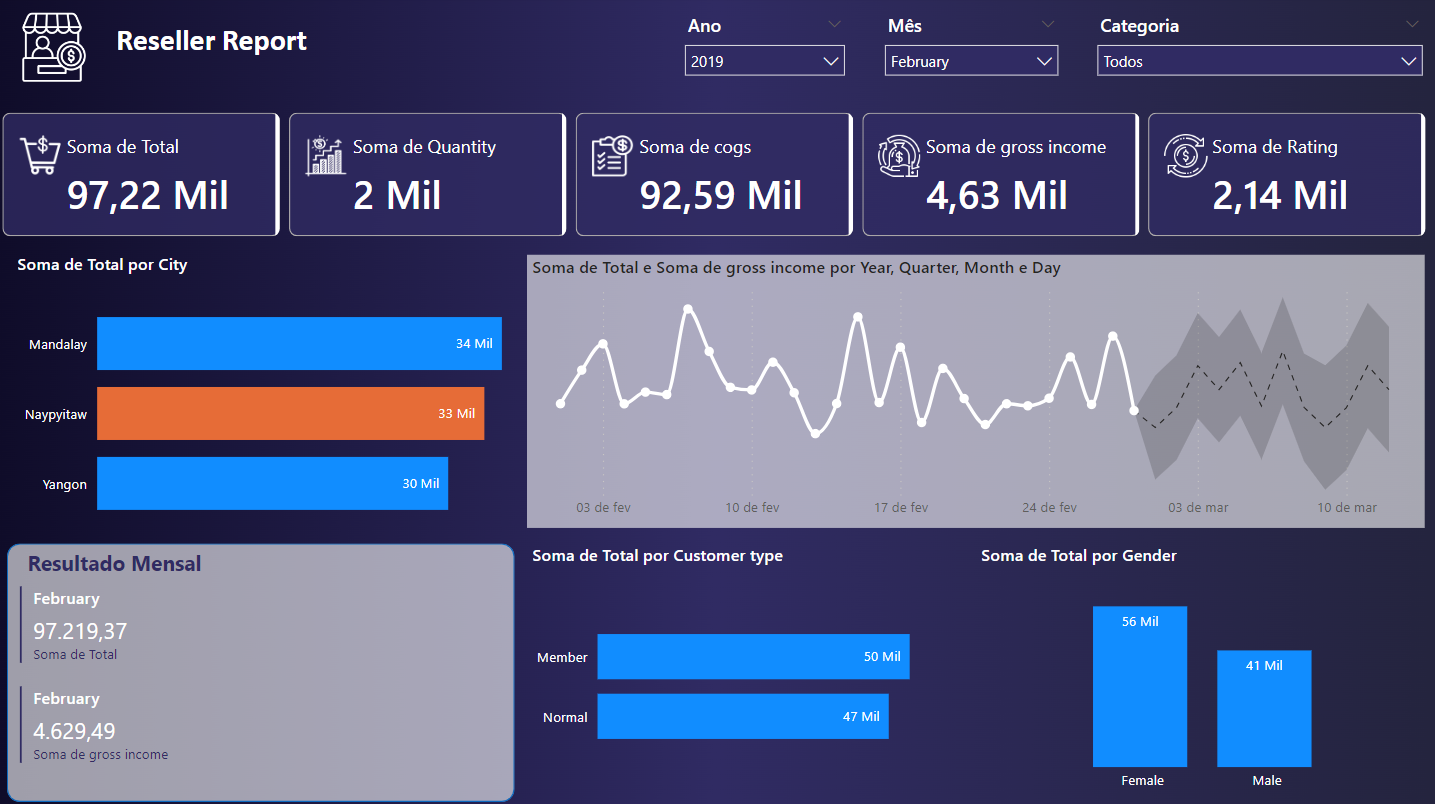

What the dashboard file says about the page in this screenshot:
{"tool":"powerbi","page":{"name":"Reseller Report","canvas":[1280,720],"ordinal":1},"visuals":[{"type":"shape","box":[8.4,487.1,451.9,230.1],"z":0},{"type":"multiRowCard","fields":{"Values":["supermarket_sales - Sheet1.Date.Variation.Date Hierarchy.Month","Sum(supermarket_sales - Sheet1.gross income)"]},"box":[15.6,609.8,432.9,93.5],"z":500},{"type":"textbox","box":[21.8,487.1,210,37],"z":1000},{"type":"multiRowCard","fields":{"Values":["supermarket_sales - Sheet1.Date.Variation.Date Hierarchy.Month","Sum(supermarket_sales - Sheet1.Total)"]},"box":[15.6,520.8,432.9,89],"z":1000},{"type":"textbox","box":[101.3,17.8,313.8,54.5],"z":3000},{"type":"image","box":[0,9.6,101.3,71.2],"z":4000},{"type":"cardVisual","fields":{"Data":["Sum(supermarket_sales - Sheet1.Total)","Sum(supermarket_sales - Sheet1.Quantity)","Sum(supermarket_sales - Sheet1.cogs)","Sum(supermarket_sales - Sheet1.gross income)","Sum(supermarket_sales - Sheet1.Rating)"]},"box":[0,98.9,1279.6,120.6],"z":5000},{"type":"lineChart","fields":{"Category":["supermarket_sales - Sheet1.Date.Variation.Date Hierarchy.Year","supermarket_sales - Sheet1.Date.Variation.Date Hierarchy.Quarter","supermarket_sales - Sheet1.Date.Variation.Date Hierarchy.Month","supermarket_sales - Sheet1.Date.Variation.Date Hierarchy.Day"],"Y":["Sum(supermarket_sales - Sheet1.Total)"]},"box":[472,230.1,799.6,243.6],"z":6000},{"type":"slicer","fields":{"Values":["supermarket_sales - Sheet1.Product line"]},"box":[969.6,9.6,309.9,80.8],"z":7000},{"type":"slicer","fields":{"Values":["supermarket_sales - Sheet1.Date.Variation.Date Hierarchy.Month"]},"box":[779.7,9.6,174.9,80.8],"z":8000},{"type":"slicer","fields":{"Values":["supermarket_sales - Sheet1.Date.Variation.Date Hierarchy.Year"]},"box":[601.8,9.6,162.8,80.8],"z":9000},{"type":"barChart","fields":{"Category":["supermarket_sales - Sheet1.City"],"Y":["Sum(supermarket_sales - Sheet1.Total)"]},"box":[13.7,227.8,447.3,262.1],"z":10000},{"type":"barChart","fields":{"Category":["supermarket_sales - Sheet1.Customer type"],"Y":["Sum(supermarket_sales - Sheet1.Total)"]},"box":[471.8,487.4,399.5,229.2],"z":10001},{"type":"clusteredColumnChart","fields":{"Category":["supermarket_sales - Sheet1.Gender"],"Y":["Sum(supermarket_sales - Sheet1.Total)"]},"box":[871.3,487.4,408.4,229.2],"z":10002}]}

Visuals, with their boxes in screenshot pixels (x1, y1, x2, y2), scaled from the page's 1280x720 canvas onto the 1435x804 screenshot:
shape: Rect(9, 544, 516, 801)
multiRowCard - supermarket_sales - Sheet1.Date.Variation.Date Hierarchy.Month x Sum(supermarket_sales - Sheet1.gross income): Rect(17, 681, 503, 785)
textbox: Rect(24, 544, 260, 585)
multiRowCard - supermarket_sales - Sheet1.Date.Variation.Date Hierarchy.Month x Sum(supermarket_sales - Sheet1.Total): Rect(17, 582, 503, 681)
textbox: Rect(114, 20, 465, 81)
image: Rect(0, 11, 114, 90)
cardVisual - Sum(supermarket_sales - Sheet1.Total) x Sum(supermarket_sales - Sheet1.Quantity): Rect(0, 110, 1434, 245)
lineChart - supermarket_sales - Sheet1.Date.Variation.Date Hierarchy.Year x supermarket_sales - Sheet1.Date.Variation.Date Hierarchy.Quarter: Rect(529, 257, 1426, 529)
slicer - supermarket_sales - Sheet1.Product line: Rect(1087, 11, 1434, 101)
slicer - supermarket_sales - Sheet1.Date.Variation.Date Hierarchy.Month: Rect(874, 11, 1070, 101)
slicer - supermarket_sales - Sheet1.Date.Variation.Date Hierarchy.Year: Rect(675, 11, 857, 101)
barChart - supermarket_sales - Sheet1.City x Sum(supermarket_sales - Sheet1.Total): Rect(15, 254, 517, 547)
barChart - supermarket_sales - Sheet1.Customer type x Sum(supermarket_sales - Sheet1.Total): Rect(529, 544, 977, 800)
clusteredColumnChart - supermarket_sales - Sheet1.Gender x Sum(supermarket_sales - Sheet1.Total): Rect(977, 544, 1434, 800)
